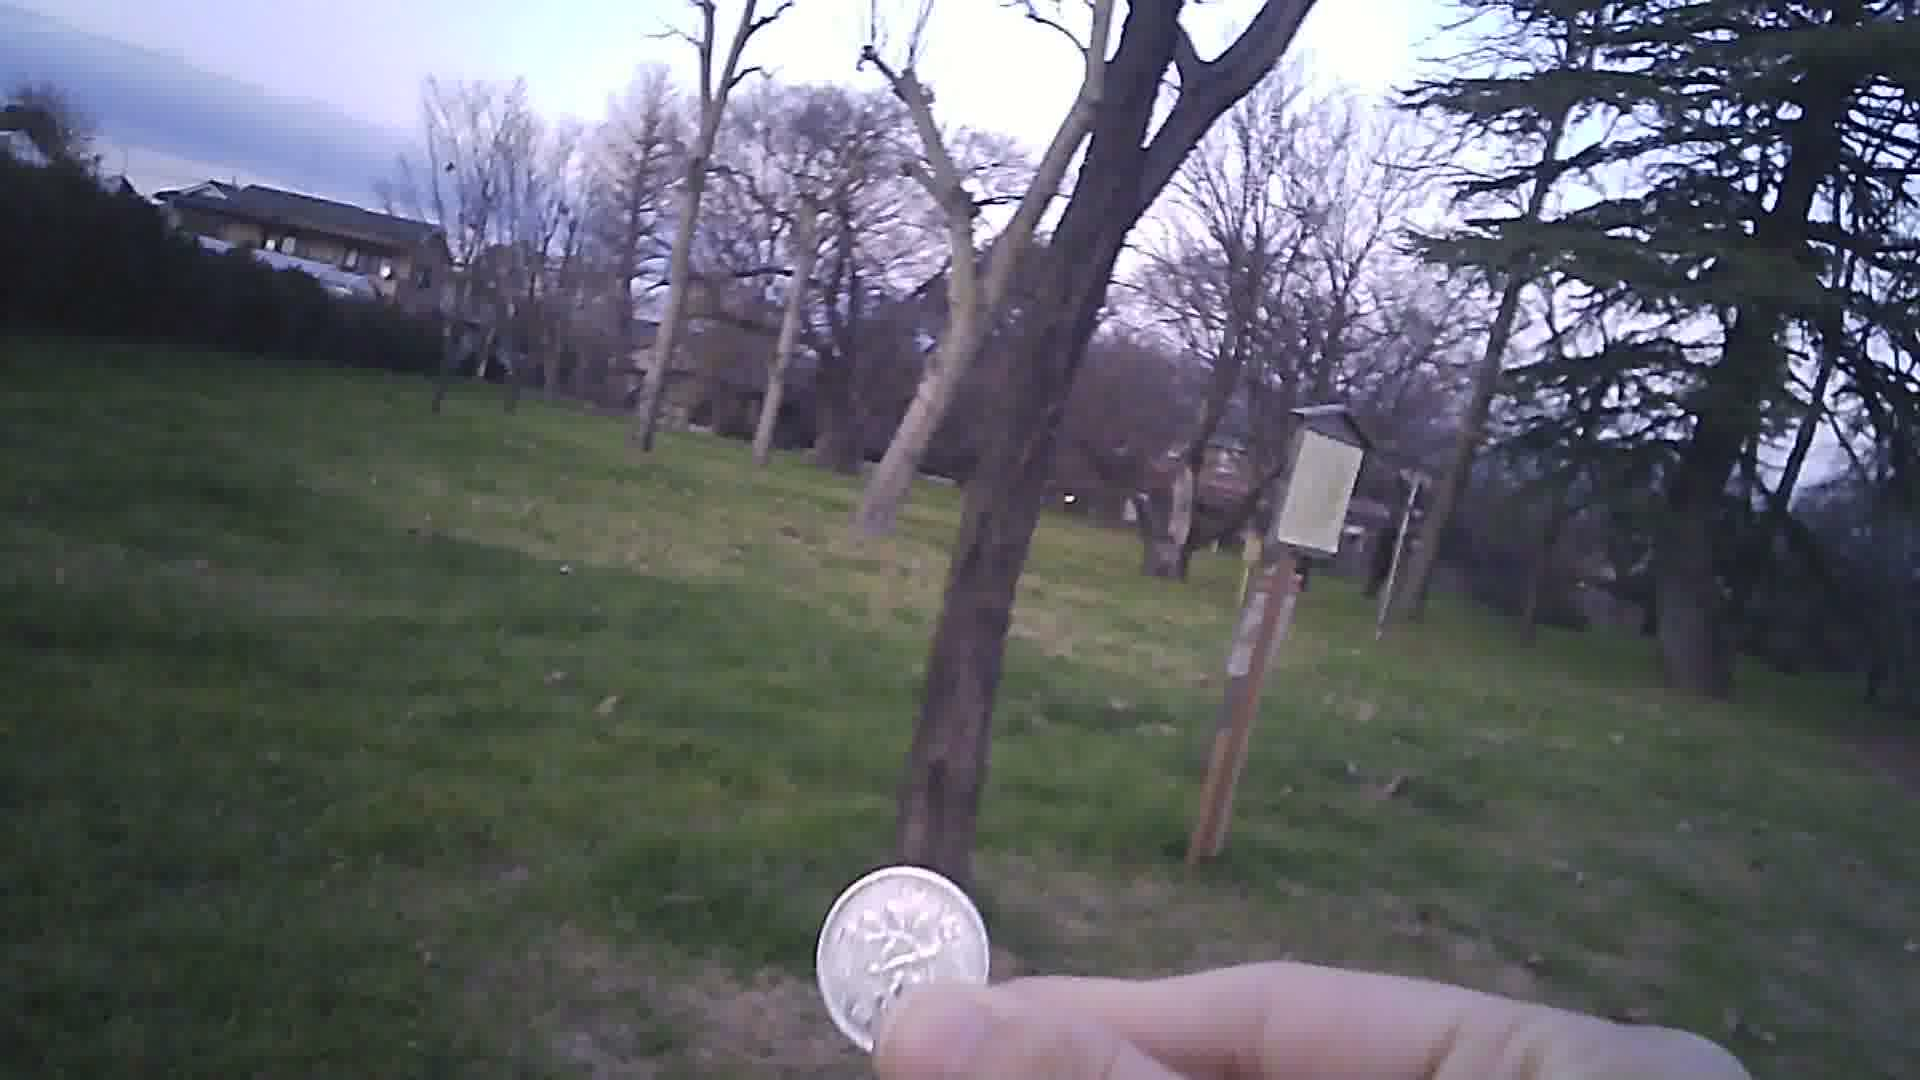1 Yen: (796, 861, 1002, 1065)
